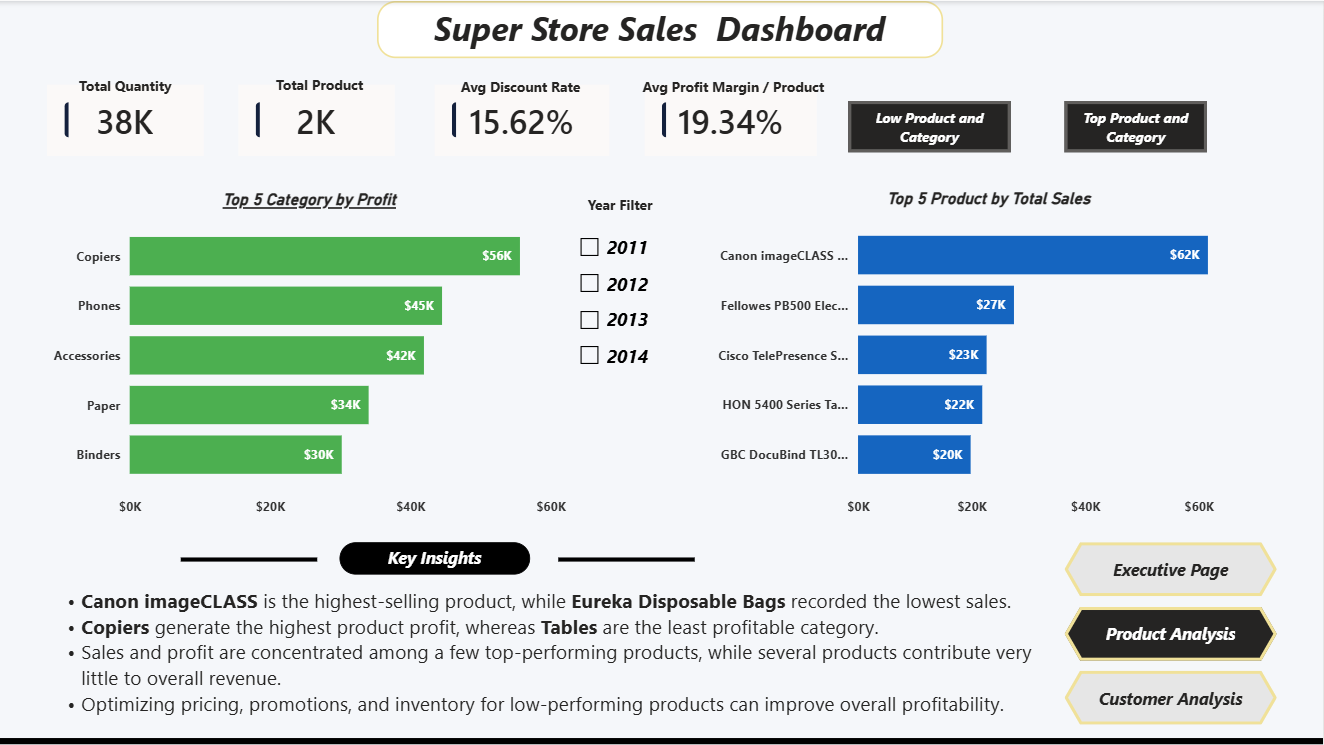

This screenshot's page, from the dashboard's own definition file:
{"tool":"powerbi","page":{"name":"Product Analysis","canvas":[1280,720],"ordinal":1},"visuals":[{"type":"textbox","box":[366.9,0,546.1,54.9],"z":0},{"type":"clusteredBarChart","title":"Low 5 product by Total Sales","fields":{"Category":["Orders.Product Name"],"Y":["Measures (2).Total Sales"]},"box":[687.5,159.2,526.9,349.9],"z":2000},{"type":"barChart","title":"Low 5 Category by Profit","fields":{"Category":["Orders.Sub-Category"],"Y":["Measures (2).Total Profit"]},"box":[68.6,170.2,555.7,338.9],"z":4000},{"type":"actionButton","title":"top_performer","box":[1030.3,96.5,137.5,49.5],"z":5000},{"type":"actionButton","title":"low_performer","box":[821.6,96.5,156.8,49.5],"z":6000},{"type":"slicer","fields":{"Values":["Date Table.YearNumber"]},"box":[550.1,214.7,114.6,172.5],"z":7000},{"type":"cardVisual","fields":{"Data":["Measures (2).Total Quantity"]},"box":[48,81,150.9,68.6],"z":8000},{"type":"textbox","box":[63.1,67.2,122.1,28.8],"z":9000},{"type":"cardVisual","fields":{"Data":["Measures (2).Total product"]},"box":[233.3,81,150.9,68.6],"z":10000},{"type":"cardVisual","fields":{"Data":["Measures (2).Average Discount Rate"]},"box":[422.6,81,168.8,68.6],"z":11000},{"type":"cardVisual","fields":{"Data":["Measures (2).Avg Profit margin per product"]},"box":[624.4,81,166,68.6],"z":12000},{"type":"textbox","box":[255.8,66.4,111,27.7],"z":13000},{"type":"textbox","box":[422.6,68.6,166,30.2],"z":14000},{"type":"textbox","box":[608,68.8,205.1,29],"z":15000},{"type":"textbox","box":[48,561.2,982.5,153.7],"z":16000},{"type":"textbox","box":[330.7,522.8,183.9,31.6],"z":17000},{"type":"shape","box":[542,531,131.7,16.5],"z":18000},{"type":"shape","box":[177,531,131.7,16.5],"z":19000},{"type":"pageNavigator","box":[1030.5,522.8,205.8,177],"z":20000},{"type":"shape","box":[0,708.1,1280.3,12.3],"z":21000},{"type":"textbox","box":[529.6,182.2,143.6,39.8],"z":22000}]}

Visuals, with their boxes in screenshot pixels (x1, y1, x2, y2), scaled from the page's 1280x720 canvas onto the 1324x745 screenshot:
textbox: <region>380, 0, 944, 57</region>
"Low 5 product by Total Sales" clusteredBarChart: <region>711, 165, 1256, 527</region>
"Low 5 Category by Profit" barChart: <region>71, 176, 646, 527</region>
"top_performer" actionButton: <region>1066, 100, 1208, 151</region>
"low_performer" actionButton: <region>850, 100, 1012, 151</region>
slicer - Date Table.YearNumber: <region>569, 222, 688, 401</region>
cardVisual - Measures (2).Total Quantity: <region>50, 84, 206, 155</region>
textbox: <region>65, 70, 192, 99</region>
cardVisual - Measures (2).Total product: <region>241, 84, 397, 155</region>
cardVisual - Measures (2).Average Discount Rate: <region>437, 84, 612, 155</region>
cardVisual - Measures (2).Avg Profit margin per product: <region>646, 84, 818, 155</region>
textbox: <region>265, 69, 379, 97</region>
textbox: <region>437, 71, 609, 102</region>
textbox: <region>629, 71, 841, 101</region>
textbox: <region>50, 581, 1066, 740</region>
textbox: <region>342, 541, 532, 574</region>
shape: <region>561, 549, 697, 567</region>
shape: <region>183, 549, 319, 567</region>
pageNavigator: <region>1066, 541, 1279, 724</region>
shape: <region>0, 733, 1323, 744</region>
textbox: <region>548, 189, 696, 230</region>
